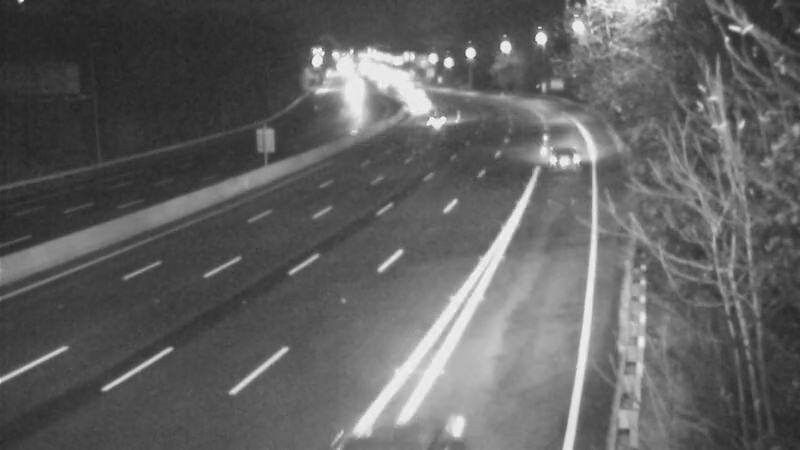vehicle: (520, 118, 600, 198), (392, 79, 442, 129), (415, 92, 465, 142)
